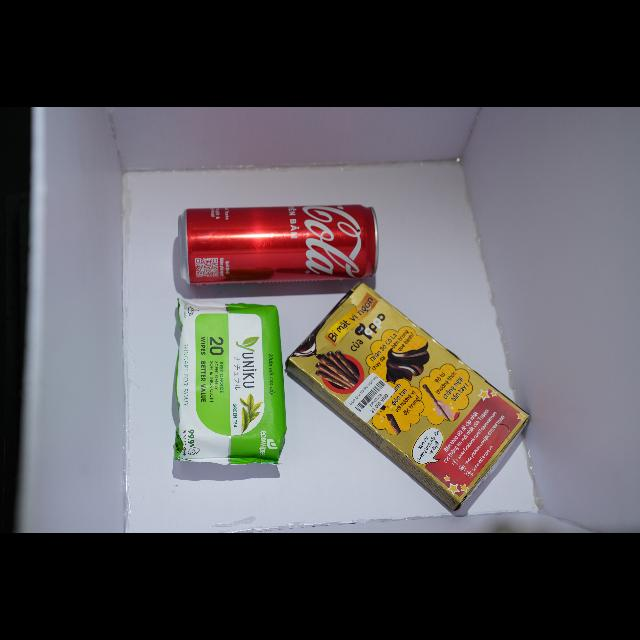banh_toppo_socola: (288, 284, 529, 510)
coca_cola: (180, 205, 377, 285)
khan_giay: (175, 299, 285, 465)
